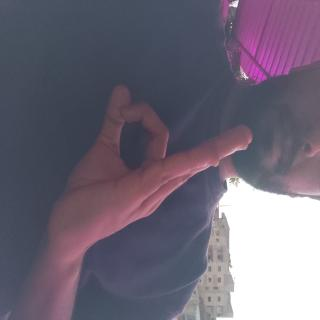Space: (55, 82, 207, 320)
